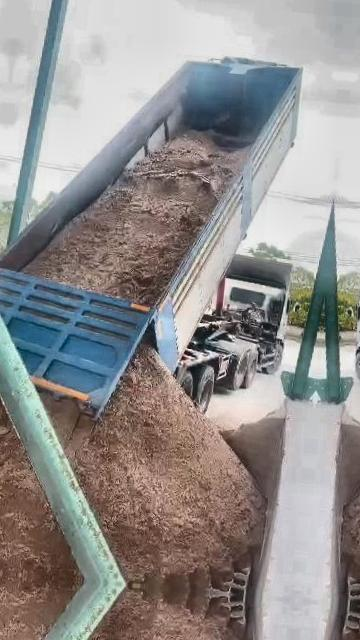sand: (45, 345, 265, 591), (25, 131, 247, 305), (0, 374, 79, 578), (212, 404, 285, 501)
